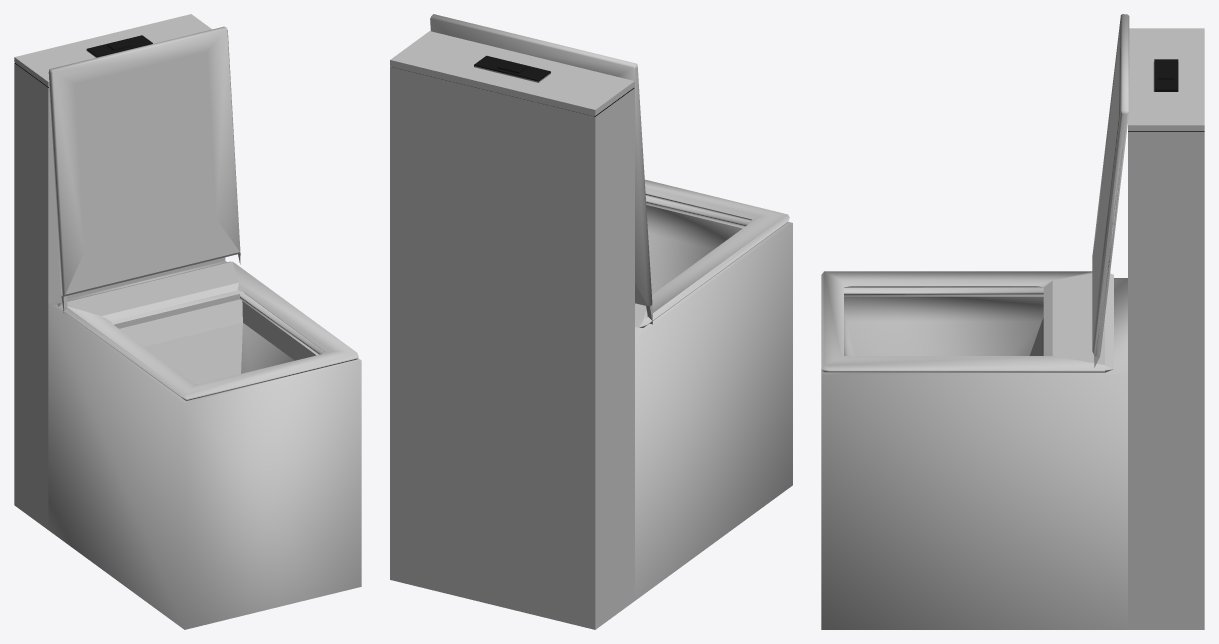
File: toilet.fbx
3 views of the same model, side by side, from view 1: azimuth 30°, elevation 25°; view 2: azimuth 150°, elevation 25°; view 3: azimuth 270°, elevation 25° (orthographic). The views are drawn at different scales.
Visible parts, largest first — view 1: toilet_Baked; view 2: toilet_Baked; view 3: toilet_Baked.
Part boxes in pixels (x1,y1,x2,y2): toilet_Baked: (14,14,361,629); toilet_Baked: (390,14,792,629); toilet_Baked: (821,14,1204,629).
Size of the model in its own units: 36 by 89.71 by 60.
1 material, 1 textured.
